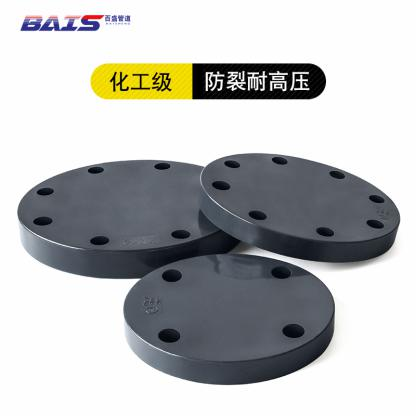FOD: (12, 147, 246, 281), (117, 252, 340, 387), (196, 138, 406, 262)
